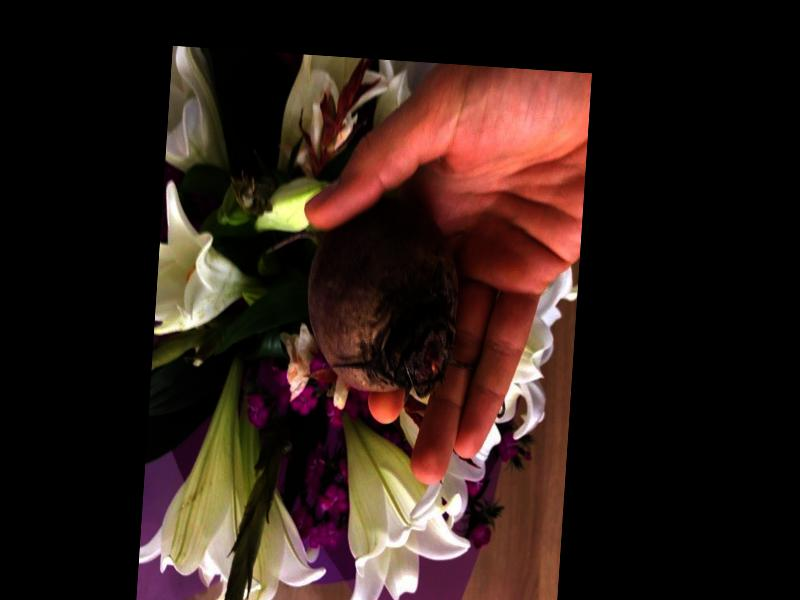Beet: (254, 190, 465, 397)
